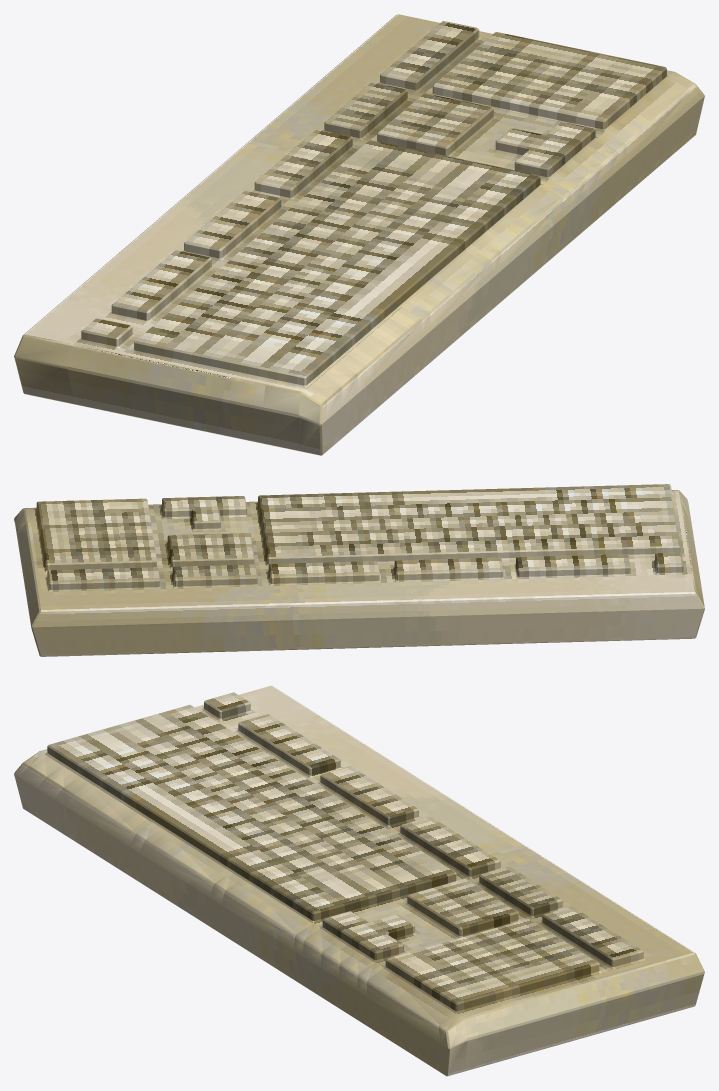
The model's file is keyb.glb.
3 renders of one model, top to bottom at view 1: azimuth 30°, elevation 25°; view 2: azimuth 150°, elevation 25°; view 3: azimuth 270°, elevation 25°, orthographic. The views are drawn at different scales.
Visible parts, largest first — view 1: Keyboarde_Material.002_0; view 2: Keyboarde_Material.002_0; view 3: Keyboarde_Material.002_0.
Part boxes in pixels (x1,y1,x2,y2): Keyboarde_Material.002_0: (14,14,704,455); Keyboarde_Material.002_0: (14,484,704,656); Keyboarde_Material.002_0: (14,685,704,1076).
Size of the model in its own units: 3.42 by 0.2919 by 2.88.
1 material, 1 textured.
